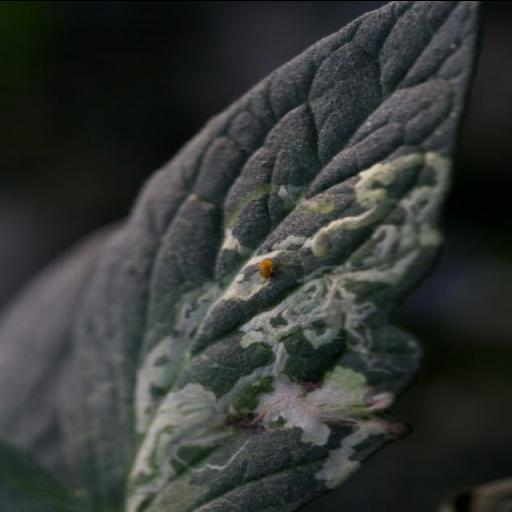disease_tomato: (58, 0, 480, 512)
